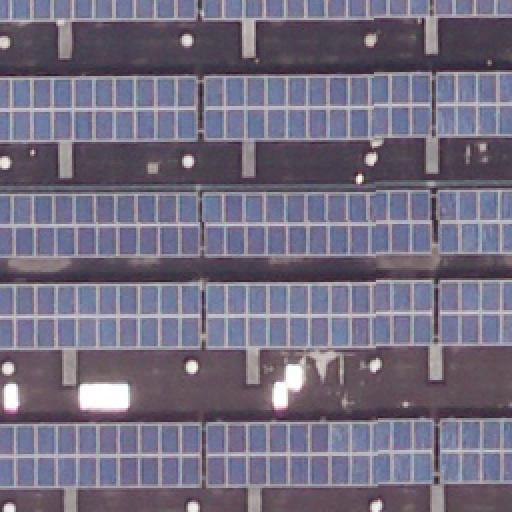solar-panel: (204, 418, 436, 486), (204, 278, 432, 346), (204, 75, 432, 141), (201, 192, 431, 256), (0, 280, 200, 348), (1, 76, 199, 144), (0, 422, 200, 486), (0, 193, 200, 255), (436, 71, 512, 137), (436, 278, 512, 342), (436, 190, 512, 254), (440, 418, 512, 482), (202, 0, 430, 20), (0, 1, 196, 23), (433, 0, 511, 16)
